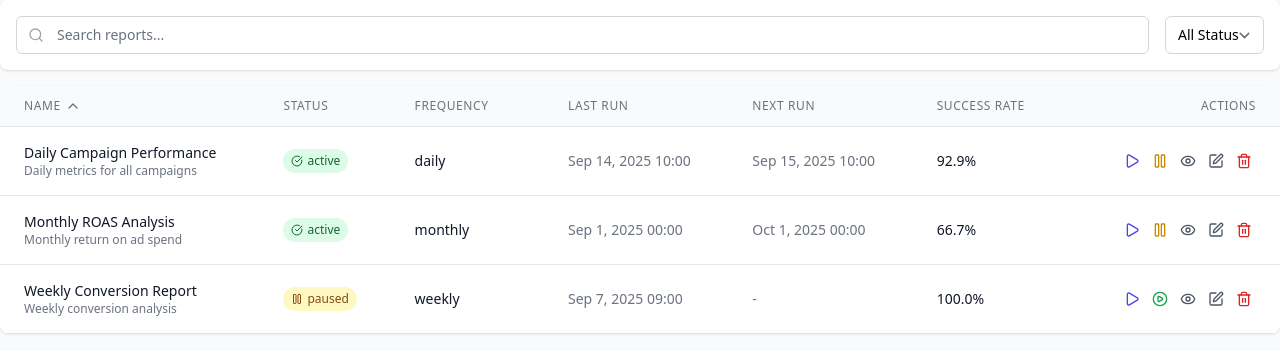
Test case: DashboardsTable › filters reports by status
Select "Paused" in the dropdown named "Status". click: x=1214, y=35
box: [1165,16,1264,54]
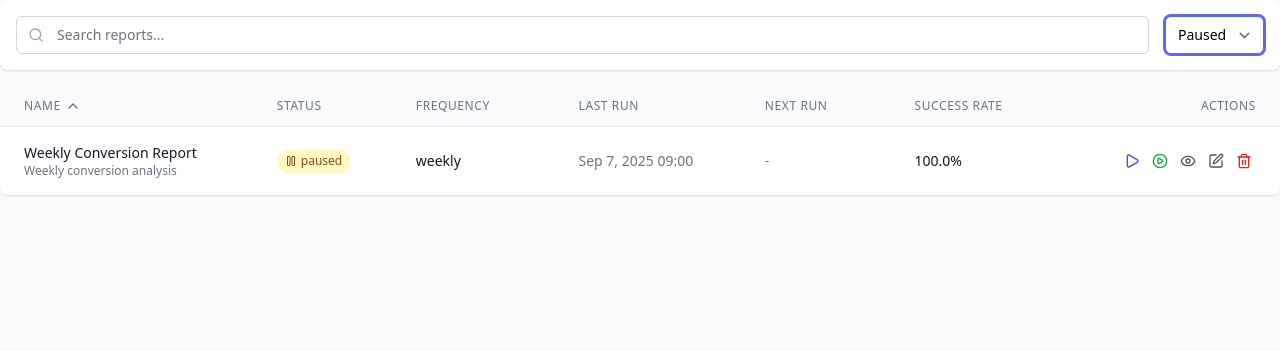
Expected: the text "Weekly Conversion Report" is shown, [24,143,197,162]
Expected: the text "Daily Campaign Performance" is gone
Expected: the text "Monthly ROAS Analysis" is gone
